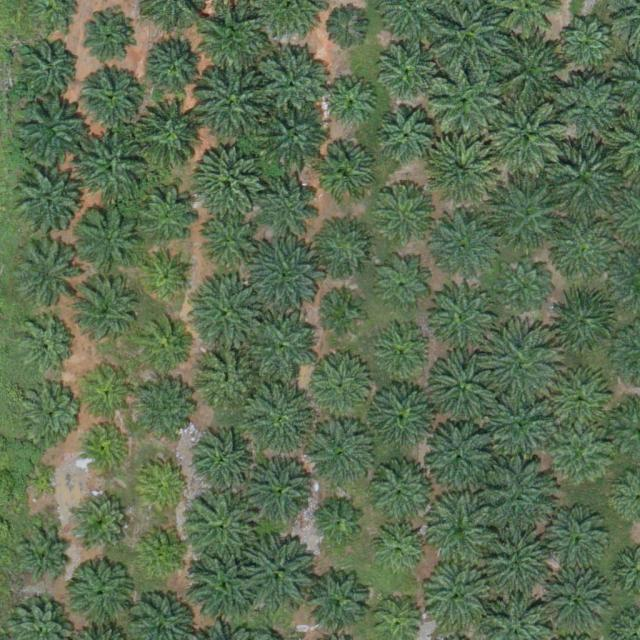Healthy: (479, 324, 557, 403), (493, 98, 571, 177), (188, 487, 266, 566), (187, 541, 265, 620), (242, 529, 320, 608), (426, 491, 504, 570), (481, 453, 559, 532), (477, 526, 555, 604), (494, 181, 565, 252), (425, 137, 496, 208), (367, 383, 438, 454), (194, 69, 265, 140), (192, 144, 263, 215), (541, 419, 612, 490), (548, 142, 618, 213), (496, 35, 566, 106), (432, 65, 503, 135), (428, 353, 498, 424), (308, 354, 378, 425), (249, 312, 319, 383), (249, 239, 320, 309), (261, 101, 331, 172), (200, 6, 270, 77), (197, 281, 267, 352), (133, 100, 203, 171), (74, 203, 144, 274), (72, 276, 142, 347), (15, 98, 85, 169), (372, 459, 442, 530), (426, 425, 496, 496), (419, 562, 490, 632), (306, 421, 376, 492), (547, 215, 617, 285), (487, 392, 557, 462), (427, 214, 497, 284), (428, 283, 498, 353), (247, 385, 317, 455), (257, 47, 327, 117), (129, 182, 199, 252), (77, 135, 147, 205), (244, 457, 314, 527), (259, 168, 322, 231), (17, 380, 80, 443), (14, 172, 77, 235), (17, 37, 80, 100), (558, 77, 620, 140), (549, 367, 611, 430), (315, 144, 377, 207), (199, 345, 262, 407), (147, 33, 209, 96), (82, 67, 145, 129), (12, 243, 74, 306), (312, 575, 375, 637), (544, 505, 606, 568), (74, 561, 136, 623), (136, 382, 191, 438), (558, 294, 613, 349), (376, 326, 431, 381), (379, 107, 434, 162), (378, 42, 433, 97), (322, 76, 377, 131), (196, 216, 251, 271), (136, 319, 191, 374), (79, 8, 134, 63), (18, 317, 73, 372), (380, 186, 434, 241), (318, 220, 372, 275), (197, 434, 251, 489), (382, 264, 429, 312), (77, 501, 124, 549), (319, 502, 366, 550), (565, 23, 612, 70), (503, 258, 550, 305), (26, 532, 73, 579), (379, 526, 426, 573)
Small: (141, 249, 196, 304), (322, 8, 369, 56), (142, 528, 189, 575), (323, 294, 363, 334), (25, 471, 56, 502)
Yellow: (80, 420, 135, 475), (81, 367, 135, 422), (141, 463, 188, 510)
